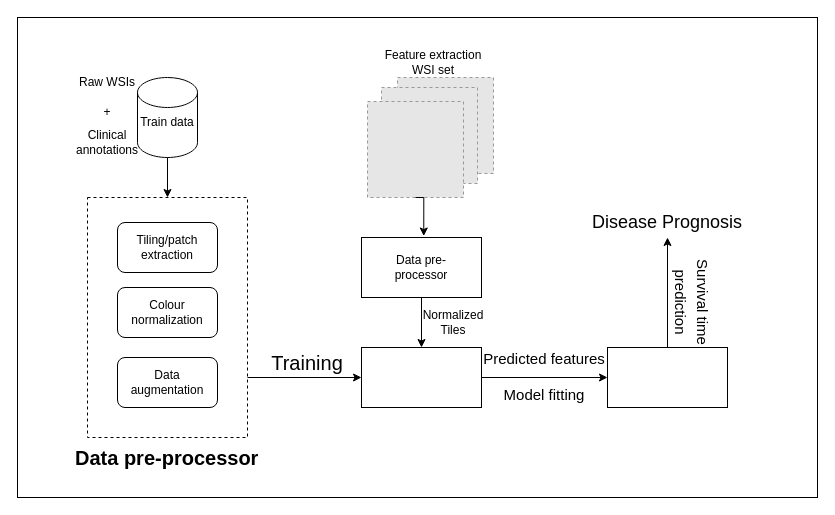
Image size: 835x515. Some labels were removed from this diagram. Grey dashed boxes stand in for pictures. Here are the shapes that lost their labels. From the top down, the box of each, then its label:
(360, 346, 482, 408): Convnet architecture model
(606, 346, 728, 408): Regression model
